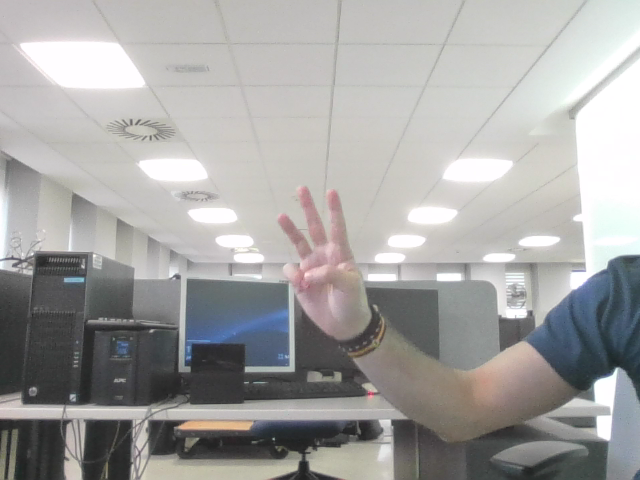3Dedos: (286, 198, 349, 299)
